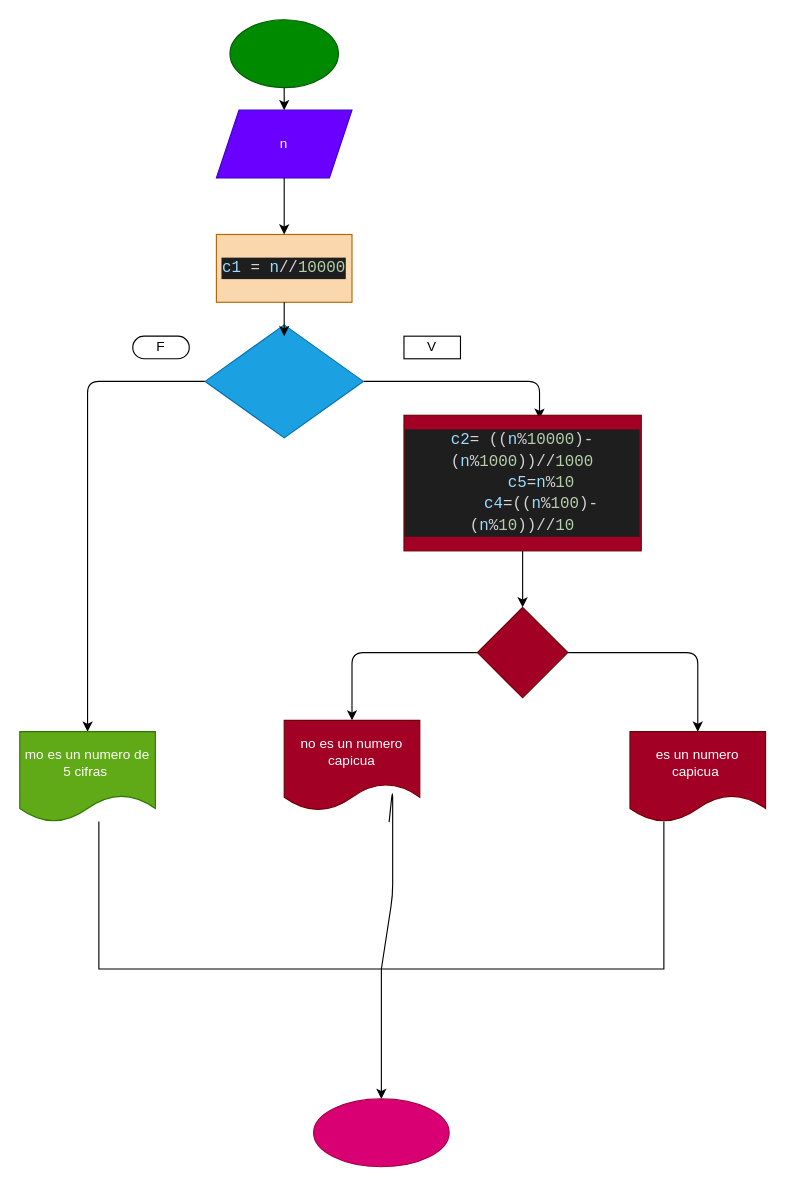
Image size: 785x1187. Some labels were removed from this diagram. Here are the shapes that lost their labels. From the top down, the centre of each, then its label:
At (x=283, y=53): "INICIO".
At (x=283, y=381): "0<v<10".
At (x=522, y=652): "c1==c5 acd c2==c4".
At (x=380, y=1132): "FIN".
